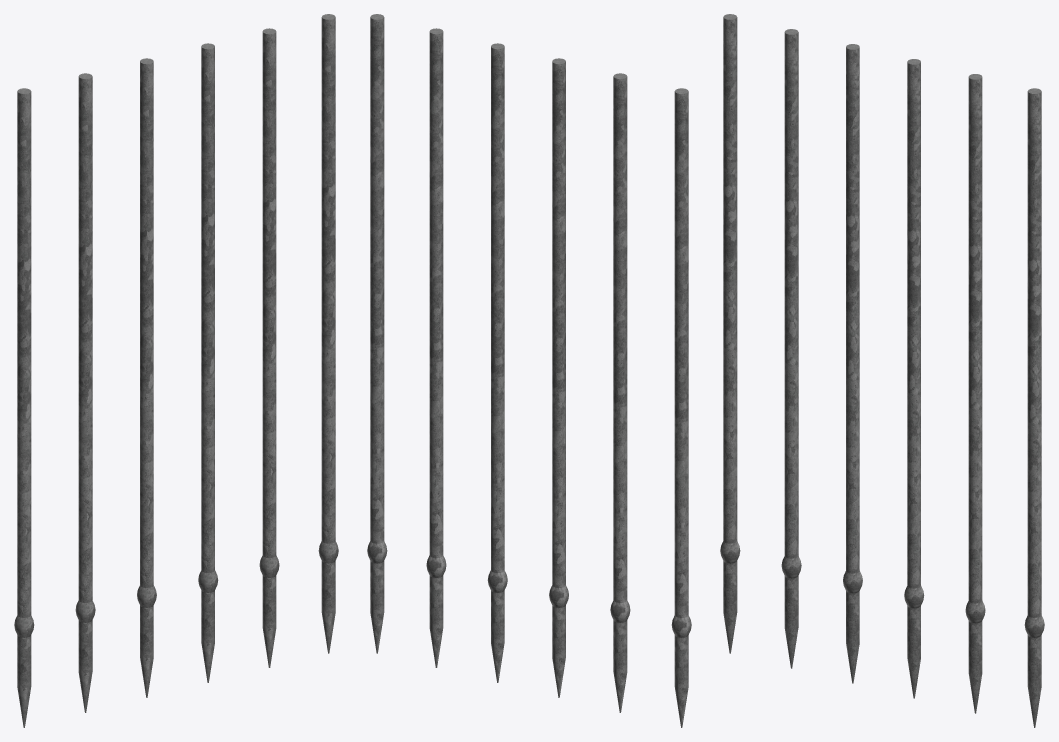
File: krata1.FBX
3 renders of one model, left to right at view 1: azimuth 30°, elevation 25°; view 2: azimuth 150°, elevation 25°; view 3: azimuth 330°, elevation 25°, orthographic.
Parts seen in each view (by area): view 1: kraty1; view 2: kraty1; view 3: kraty1.
Boxes of the visible parts, x1=… form: kraty1: x1=14, y1=14, x2=338, y2=727; kraty1: x1=367, y1=14, x2=691, y2=727; kraty1: x1=720, y1=14, x2=1044, y2=727.
Size of the model in its own units: 142 by 268 by 7.64.
Materials: 1 (1 with a texture image).
